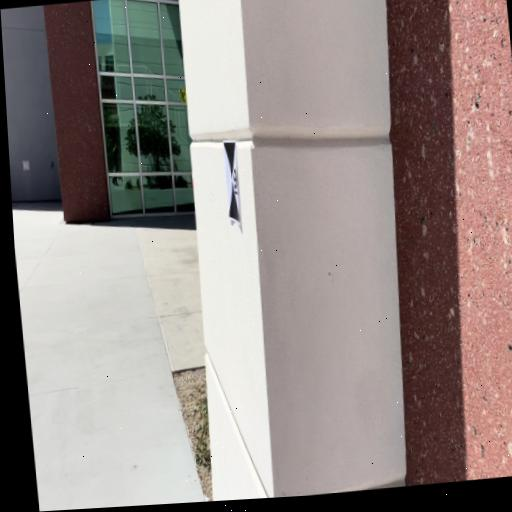target9: (222, 138, 242, 224)
